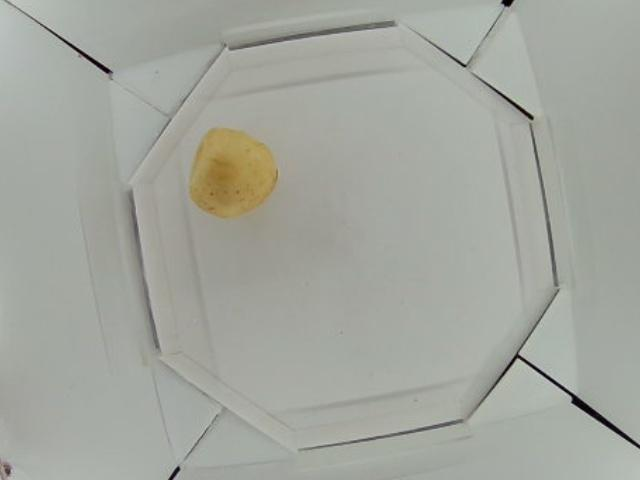Potato: (187, 131, 281, 214)
